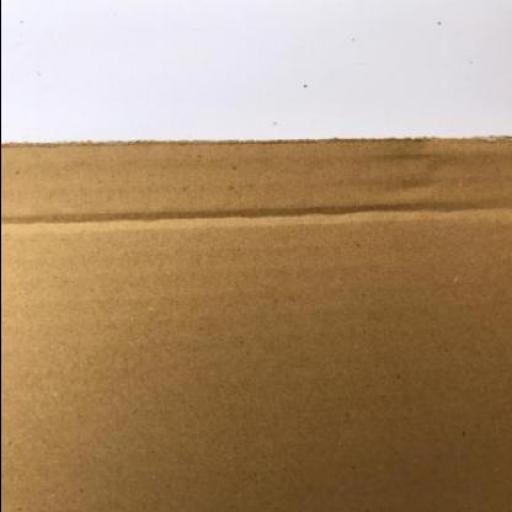cardboard: (1, 134, 511, 511)
